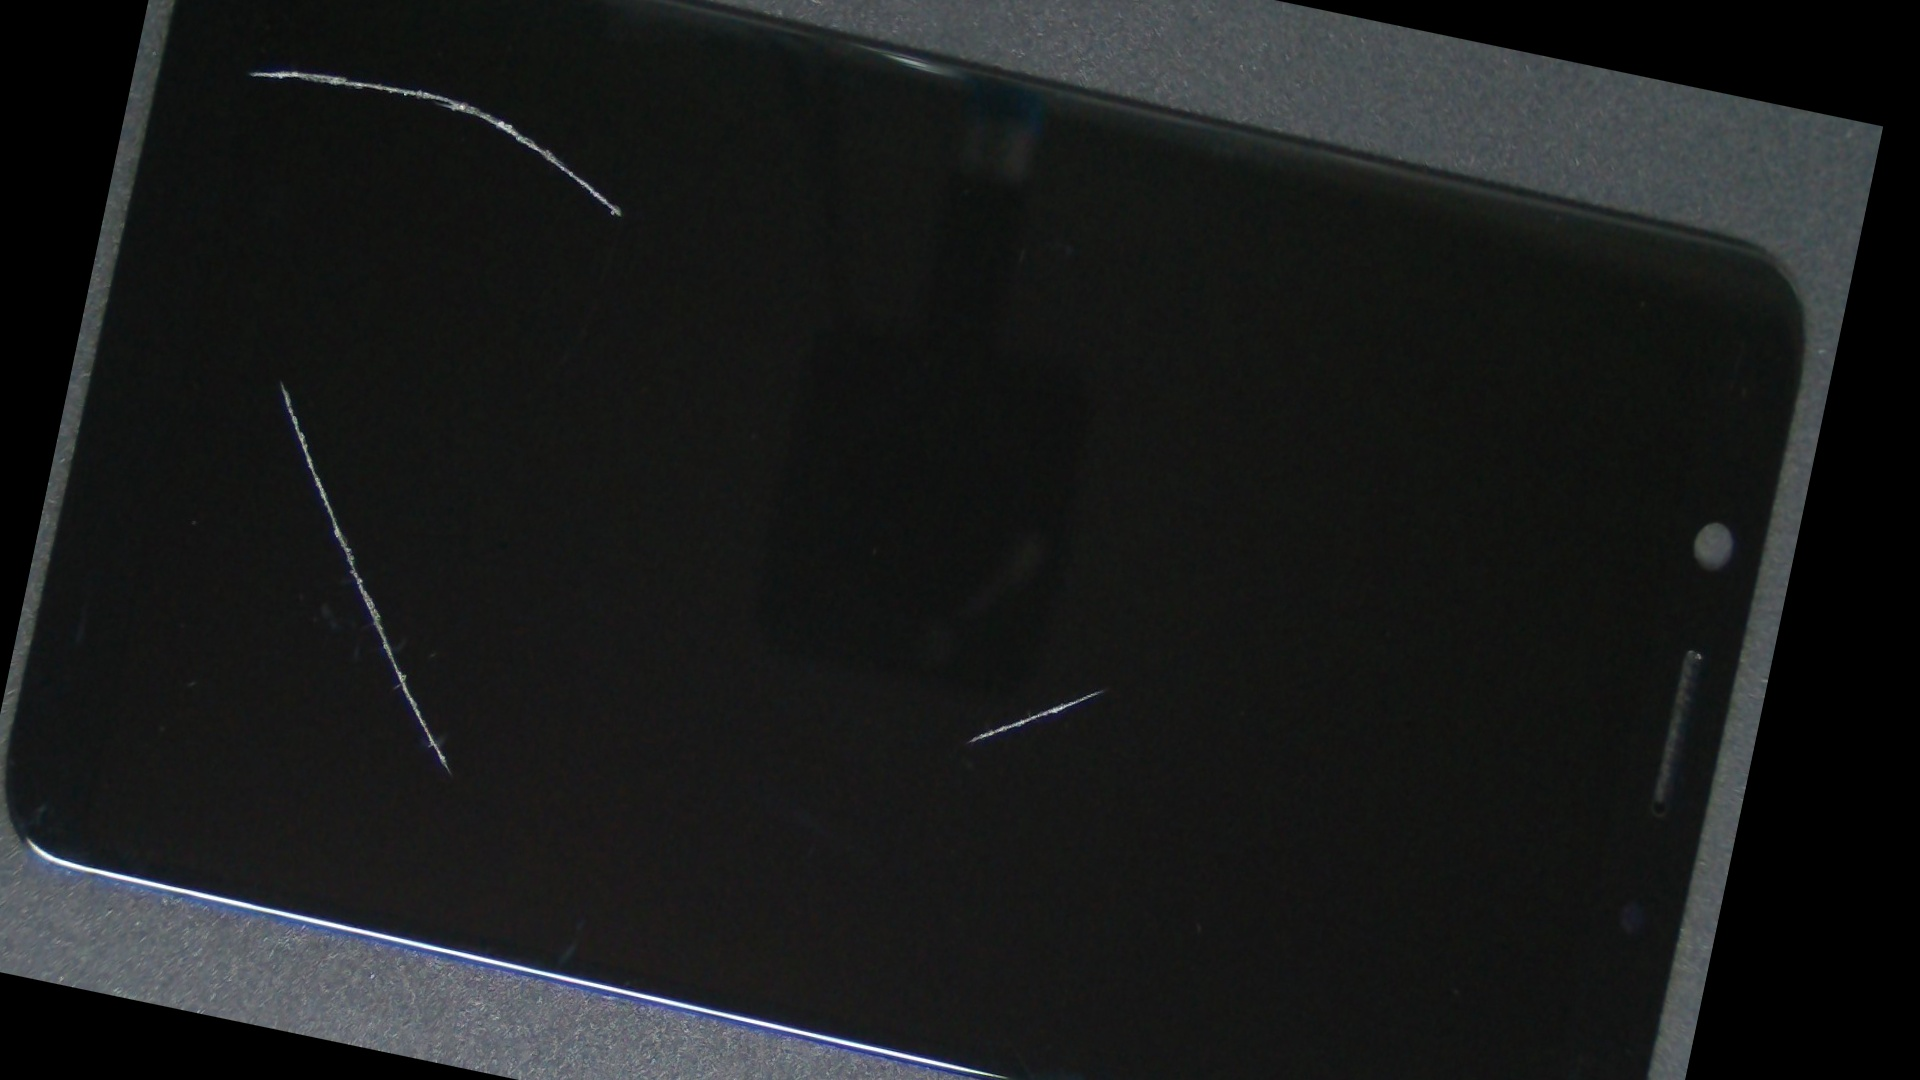oil: (505, 232, 1701, 1080), (121, 78, 440, 684), (255, 0, 587, 247)
